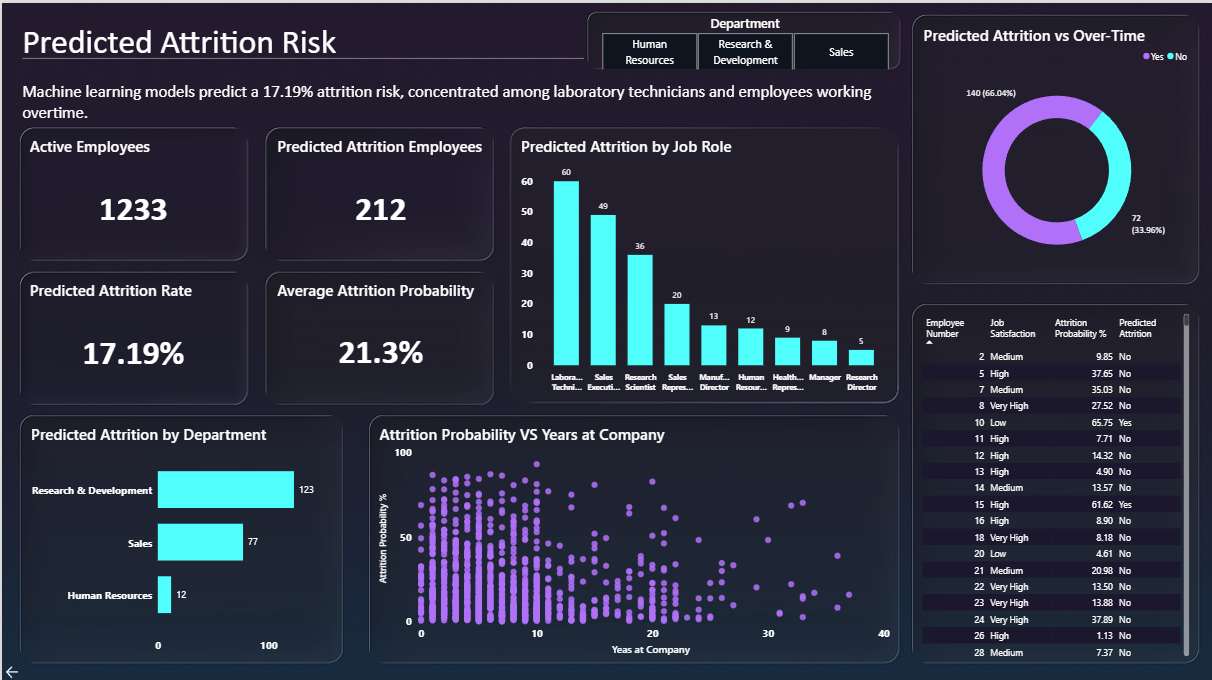

The dashboard page shown, as its layout file describes it:
{"tool":"powerbi","page":{"name":"Page 2","canvas":[1920,1080],"ordinal":1},"visuals":[{"type":"card","title":"Active Employees","fields":{"Values":["hr_attrition_dataset.active_employees"]},"box":[28.6,199,360,212.9],"z":0},{"type":"barChart","title":"Predicted Attrition by Department","fields":{"Y":["measures (2).predicted_attrition"],"Category":["hr predicted_dataset.Department"]},"box":[29,655,510,394],"z":1000},{"type":"card","title":"Predicted Attrition Employees","fields":{"Values":["measures (2).predicted_attrition"]},"box":[419.3,199.3,360,213],"z":2000},{"type":"card","title":"Predicted Attrition Rate","fields":{"Values":["measures (2).predicted_attrition_rate"]},"box":[28.9,427.2,360,212.8],"z":3000},{"type":"card","title":"Average Attrition Probability","fields":{"Values":["measures (2).average_predicted_probability"]},"box":[419.2,427.5,360,212.5],"z":4000},{"type":"columnChart","title":"Predicted Attrition by Job Role","fields":{"Category":["hr predicted_dataset.JobRole"],"Y":["Sum(hr predicted_dataset.Predict_attrition)"]},"box":[806,200,616,436],"z":5000},{"type":"donutChart","title":"Predicted Attrition vs Over-Time","fields":{"Category":["hr predicted_dataset.OverTime"],"Y":["Sum(hr predicted_dataset.Predict_attrition)"]},"box":[1444.4,23.3,454.4,423.3],"z":6000},{"type":"tableEx","fields":{"Values":["hr predicted_dataset.EmployeeNumber","hr predicted_dataset.job satis. label","hr predicted_dataset.Attrition_probability","hr predicted_dataset.Predicted Attrition Label"]},"box":[1442.5,477.5,455,572.5],"z":7000},{"type":"scatterChart","title":"Attrition Probability VS Years at Company","fields":{"Y":["hr predicted_dataset.Attrition_probability"],"X":["Sum(hr predicted_dataset.YearsAtCompany)"]},"box":[582,655,841,394],"z":8000},{"type":"textbox","box":[31.8,123.2,1390.7,83.4],"z":9000},{"type":"textbox","box":[31.8,27.8,562.2,95.4],"z":10000},{"type":"slicer","title":"Department","fields":{"Values":["hr predicted_dataset.Department"]},"box":[929.1,17.3,493.6,87.3],"z":11000},{"type":"shape","box":[31.8,55,890,63.6],"z":12000},{"type":"actionButton","box":[0,1040,32,40],"z":13000}]}

Visuals, with their boxes in screenshot pixels (x1, y1, x2, y2), scaled from the page's 1920x1080 canvas onto the 1212x680 screenshot:
"Active Employees" card: bbox=(18, 125, 245, 259)
"Predicted Attrition by Department" barChart: bbox=(18, 412, 340, 660)
"Predicted Attrition Employees" card: bbox=(265, 125, 492, 260)
"Predicted Attrition Rate" card: bbox=(18, 269, 245, 403)
"Average Attrition Probability" card: bbox=(265, 269, 492, 403)
"Predicted Attrition by Job Role" columnChart: bbox=(509, 126, 898, 400)
"Predicted Attrition vs Over-Time" donutChart: bbox=(912, 15, 1199, 281)
tableEx - hr predicted_dataset.EmployeeNumber x hr predicted_dataset.job satis. label: bbox=(911, 301, 1198, 661)
"Attrition Probability VS Years at Company" scatterChart: bbox=(367, 412, 898, 660)
textbox: bbox=(20, 78, 898, 130)
textbox: bbox=(20, 18, 375, 78)
"Department" slicer: bbox=(586, 11, 898, 66)
shape: bbox=(20, 35, 582, 75)
actionButton: bbox=(0, 655, 20, 679)
